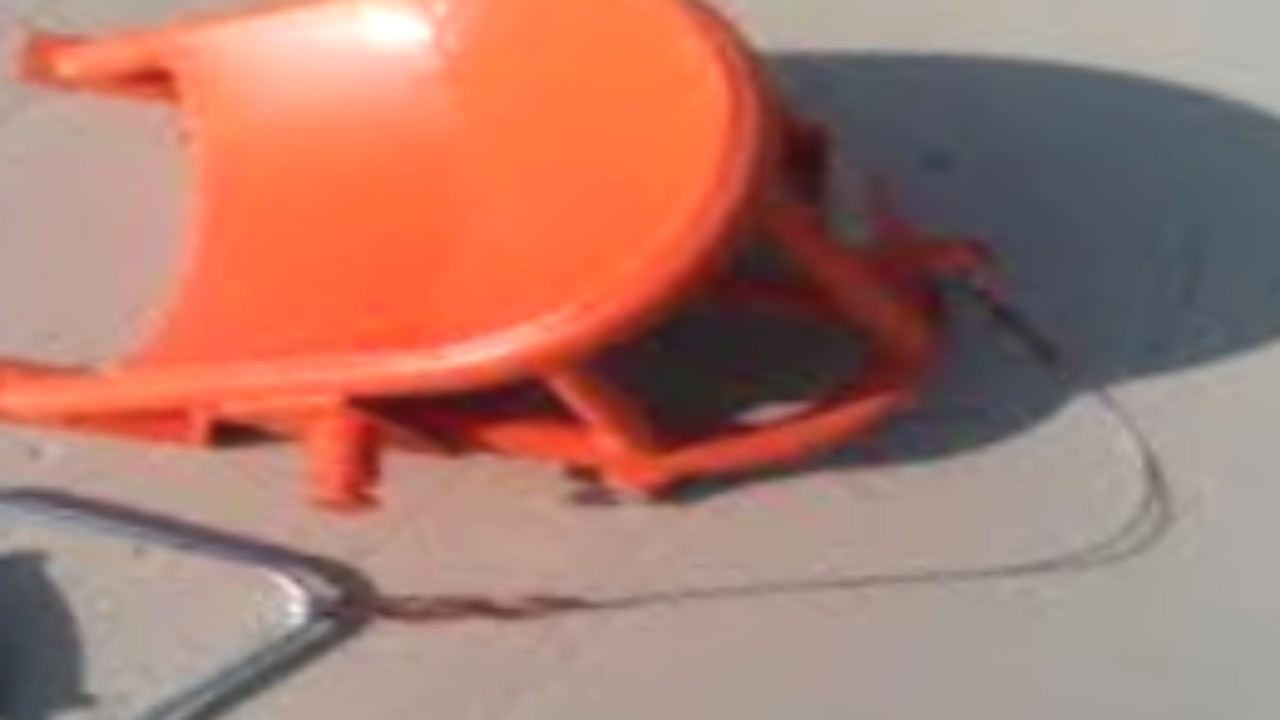chock: (0, 0, 1060, 617)
